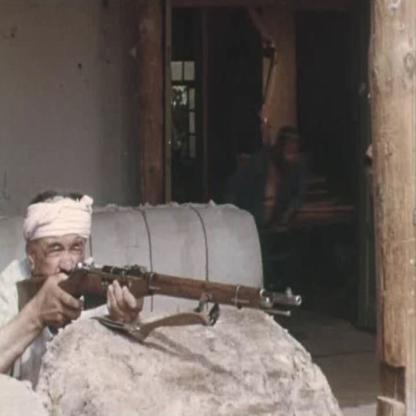gun: (14, 250, 302, 340)
